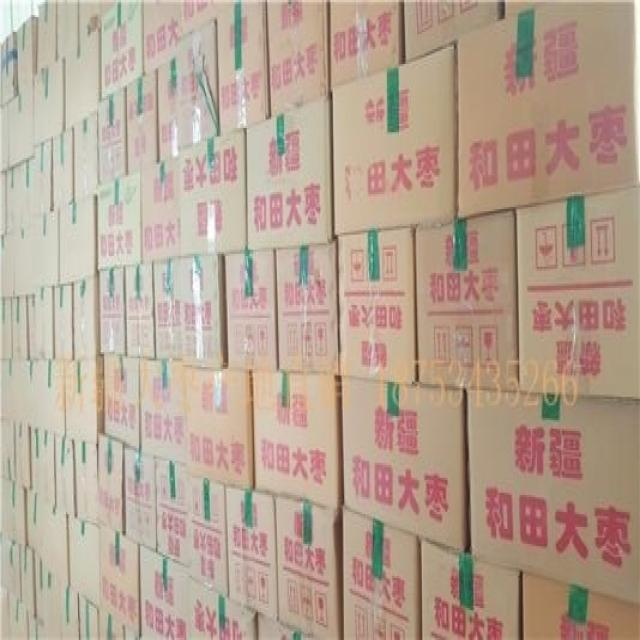box: (457, 2, 640, 222), (466, 390, 640, 606), (515, 186, 640, 401), (332, 41, 457, 237), (340, 375, 470, 557), (415, 209, 519, 393), (246, 96, 332, 252), (252, 369, 342, 512), (336, 230, 417, 384), (343, 506, 422, 640), (421, 540, 523, 638), (276, 497, 344, 640), (176, 126, 246, 256), (185, 363, 253, 491), (276, 241, 339, 373), (523, 574, 640, 640), (216, 2, 270, 134), (266, 2, 328, 115), (227, 486, 278, 623), (401, 2, 505, 66), (225, 247, 278, 369), (328, 2, 403, 87), (175, 17, 218, 151), (180, 254, 227, 367), (140, 358, 188, 467), (188, 474, 229, 597), (188, 572, 258, 640), (98, 525, 140, 638), (140, 544, 189, 640), (96, 171, 141, 273), (26, 489, 70, 587), (140, 156, 180, 262), (101, 2, 144, 100), (65, 21, 101, 132), (156, 459, 189, 572), (103, 354, 140, 452), (64, 354, 103, 446), (125, 68, 159, 173), (123, 446, 157, 550), (59, 192, 97, 284), (97, 87, 128, 186), (141, 2, 182, 75), (125, 260, 155, 358), (153, 256, 181, 361), (68, 514, 98, 610), (34, 55, 65, 145), (29, 358, 65, 435), (97, 431, 123, 535), (7, 79, 35, 169), (98, 267, 126, 356), (72, 107, 98, 201), (72, 439, 98, 527), (73, 273, 99, 358), (34, 553, 60, 638), (30, 422, 55, 506), (34, 207, 59, 290), (181, 2, 236, 38), (157, 58, 176, 162), (28, 286, 54, 358), (52, 126, 74, 209), (55, 433, 77, 516), (12, 218, 34, 297), (258, 612, 319, 640), (0, 582, 29, 640), (17, 17, 37, 94), (37, 0, 58, 73), (34, 139, 53, 218), (54, 282, 73, 361), (12, 418, 32, 491), (0, 527, 20, 599), (56, 0, 79, 60), (97, 608, 140, 640), (0, 32, 18, 107), (11, 358, 31, 425), (60, 576, 79, 640), (11, 294, 29, 361), (20, 544, 36, 617), (0, 228, 16, 297), (6, 162, 22, 230), (12, 480, 28, 546), (20, 156, 35, 226), (503, 2, 555, 21), (78, 2, 102, 43), (0, 414, 14, 480), (0, 471, 13, 542), (78, 595, 98, 640), (0, 294, 12, 358), (0, 358, 12, 418), (36, 614, 60, 640), (0, 102, 8, 171), (0, 171, 7, 233), (28, 608, 37, 640), (101, 0, 116, 19)
